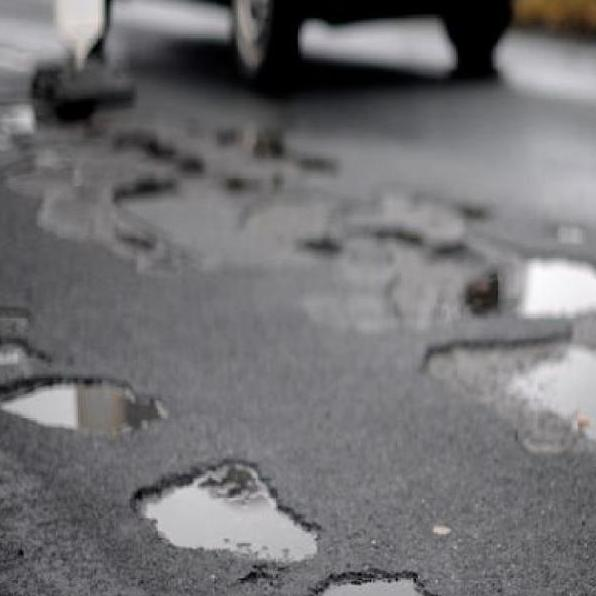pothole: (419, 229, 596, 434), (122, 454, 326, 568), (0, 351, 179, 441), (279, 558, 466, 596), (0, 323, 36, 378)
